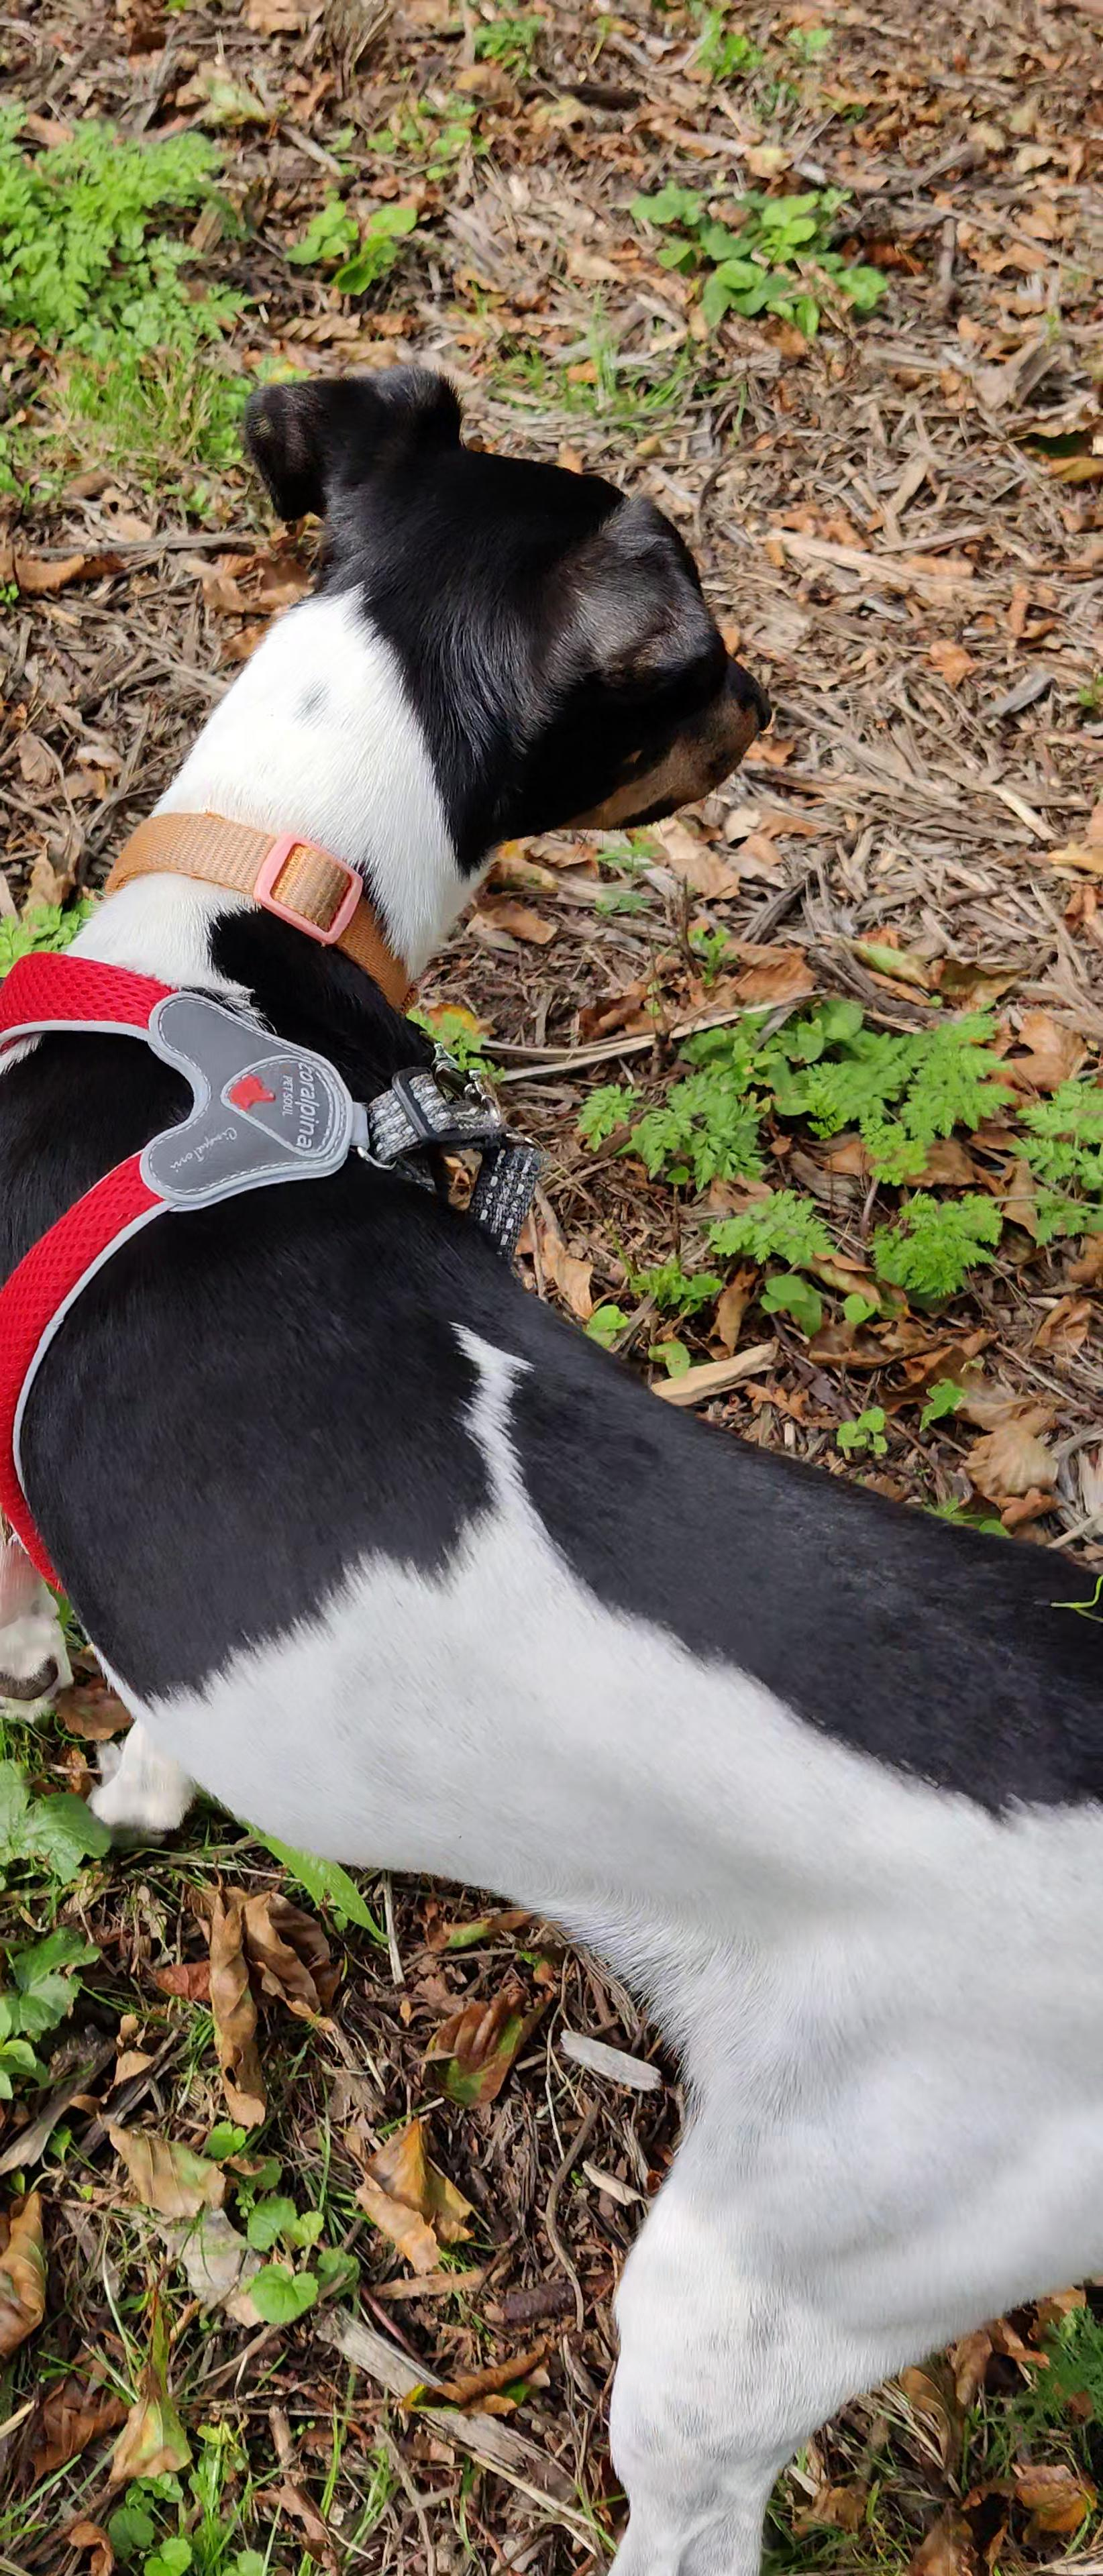Dog: (0, 358, 1103, 2576)
